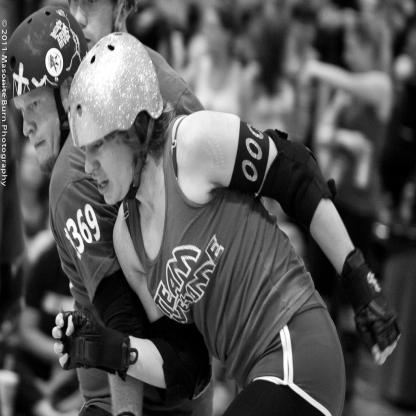Helmet: (65, 32, 165, 206), (6, 8, 84, 146), (115, 0, 145, 28)
